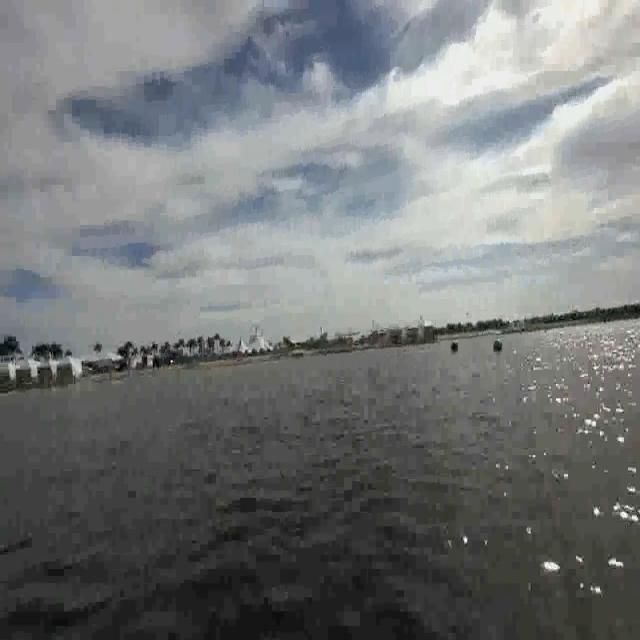black-buoy: (492, 335, 501, 351), (451, 336, 458, 353)
